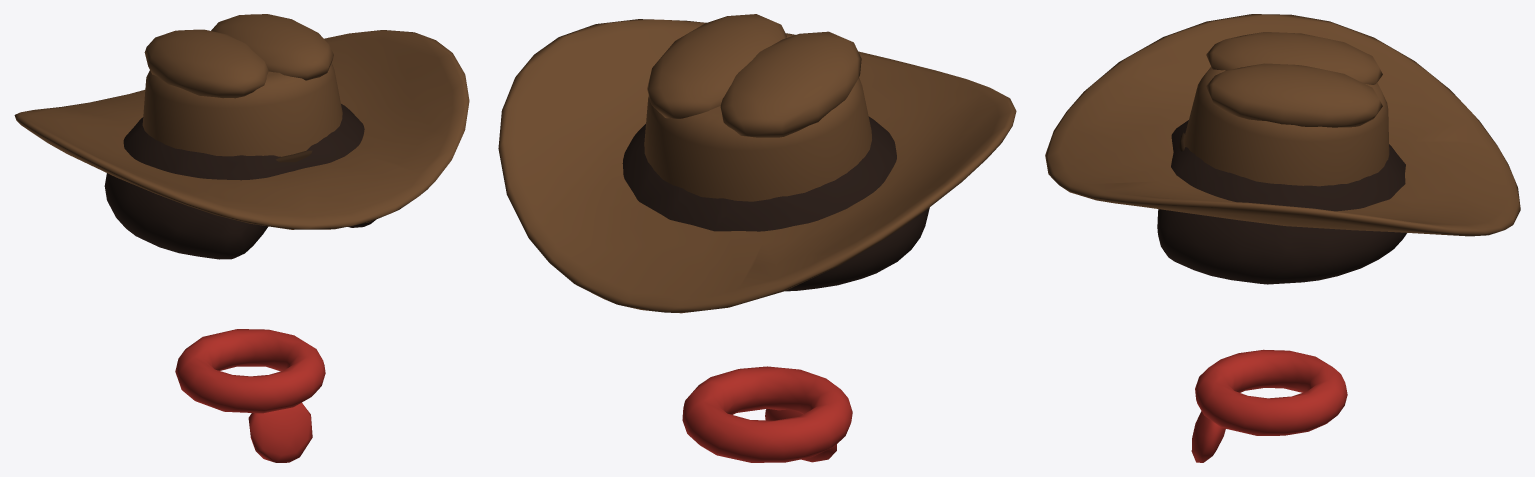
The model's file is outfit_rodeo.glb.
3 views of the same model, side by side, from view 1: azimuth 30°, elevation 25°; view 2: azimuth 150°, elevation 25°; view 3: azimuth 270°, elevation 25° (orthographic). The views are drawn at different scales.
Visible parts, largest first — view 1: outfit_rodeo, outfit_rodeo_hair_f; view 2: outfit_rodeo, outfit_rodeo_hair_f; view 3: outfit_rodeo, outfit_rodeo_hair_f.
Boxes of the visible parts, x1,y1,x2,y2 form: outfit_rodeo: [14, 14, 469, 462]; outfit_rodeo_hair_f: [104, 104, 375, 259]; outfit_rodeo: [498, 14, 1016, 462]; outfit_rodeo_hair_f: [622, 116, 929, 291]; outfit_rodeo: [1045, 14, 1520, 462]; outfit_rodeo_hair_f: [1157, 120, 1406, 284].
Size of the model in its own units: 0.6246 by 0.6051 by 0.6473.
